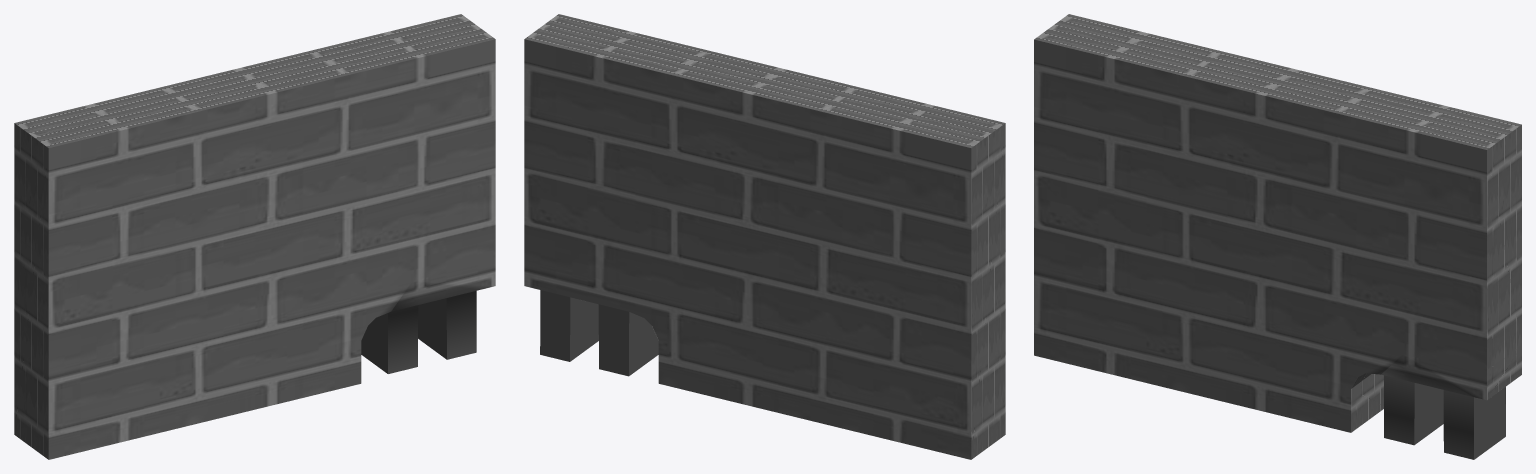
File: ParedRioIzqueierda.fbx
3 views of the same model, side by side, from view 1: azimuth 30°, elevation 25°; view 2: azimuth 150°, elevation 25°; view 3: azimuth 330°, elevation 25° (orthographic).
Parts seen in each view (by area): view 1: muroConReja; view 2: muroConReja; view 3: muroConReja.
Part boxes in pixels (left/top/right/bottom): muroConReja: left=14, top=14, right=495, bottom=459; muroConReja: left=524, top=14, right=1005, bottom=459; muroConReja: left=1034, top=14, right=1521, bottom=459.
Size of the model in its own units: 15 by 10 by 2.
